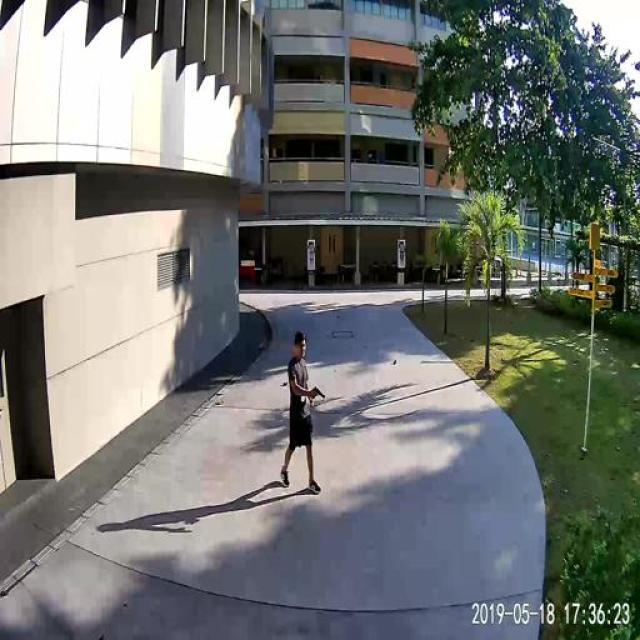Gun: (308, 384, 334, 408)
